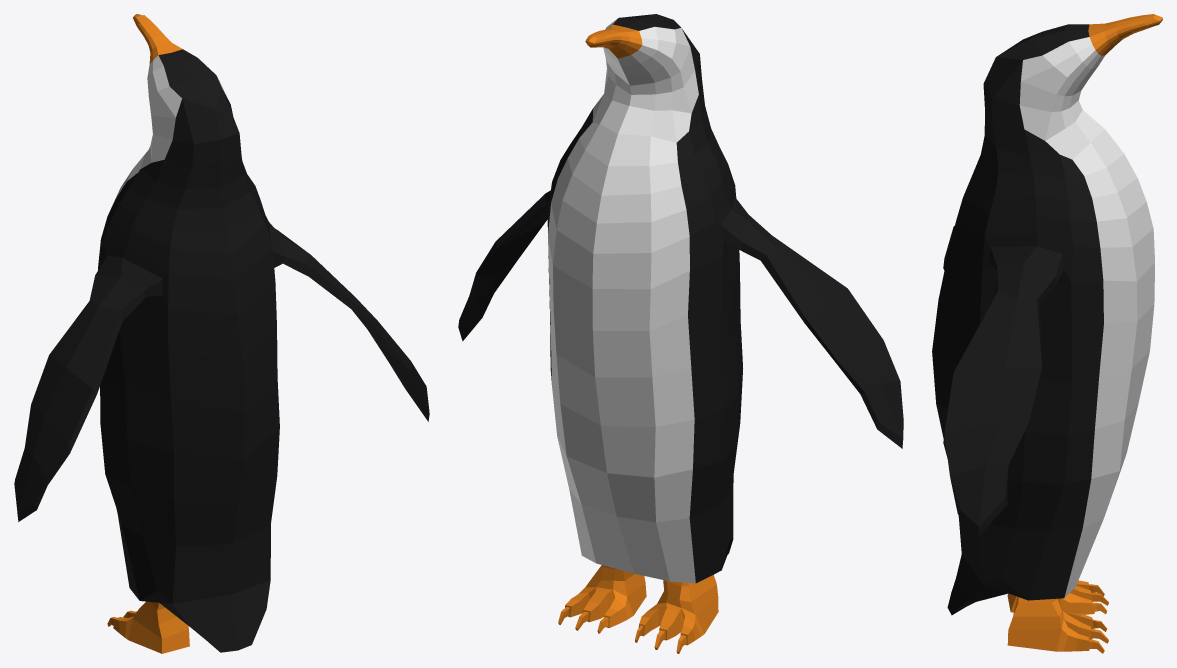
File: pinguin.fbx
The picture shows the model from 3 angles, left to right: view 1: azimuth 30°, elevation 25°; view 2: azimuth 150°, elevation 25°; view 3: azimuth 270°, elevation 25°; orthographic projection. The views are drawn at different scales.
Parts seen in each view (by area): view 1: Cube; view 2: Cube; view 3: Cube.
Part boxes in pixels (bbox=[...]): Cube: bbox=[14, 14, 429, 653]; Cube: bbox=[458, 14, 903, 653]; Cube: bbox=[932, 14, 1162, 653].
Bounding box in the file's own units: 238 × 320 × 110.
